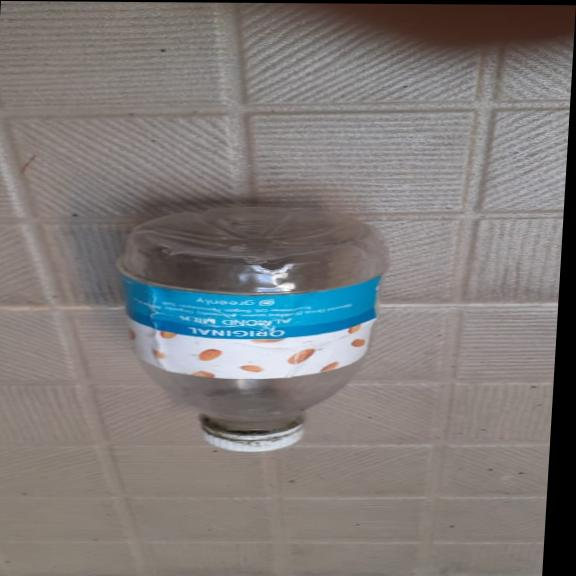Plastik: (105, 200, 391, 454)
